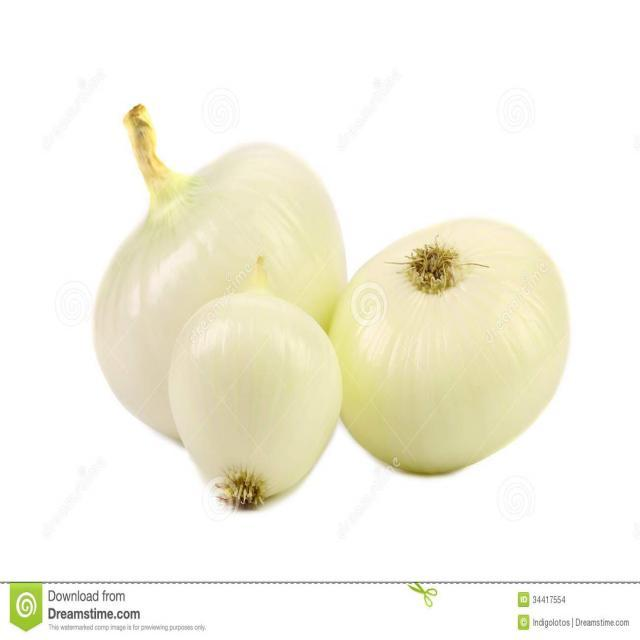onion: (90, 127, 354, 444), (324, 214, 573, 480), (163, 279, 347, 512)
